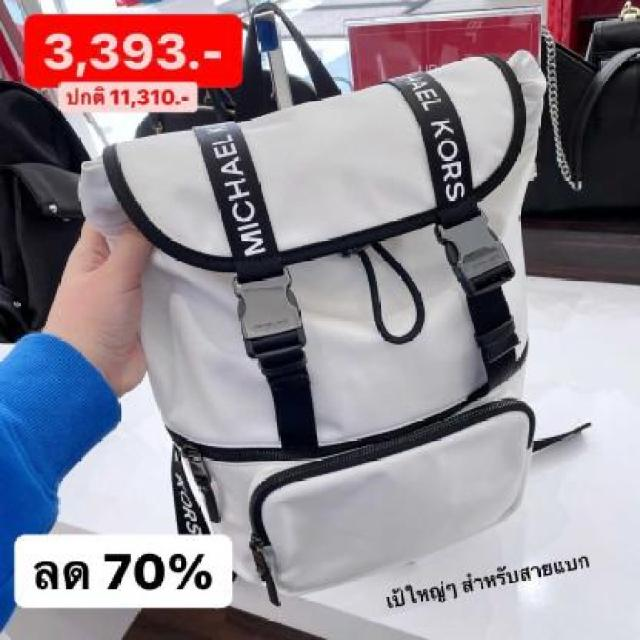Bag: (44, 29, 578, 600)
